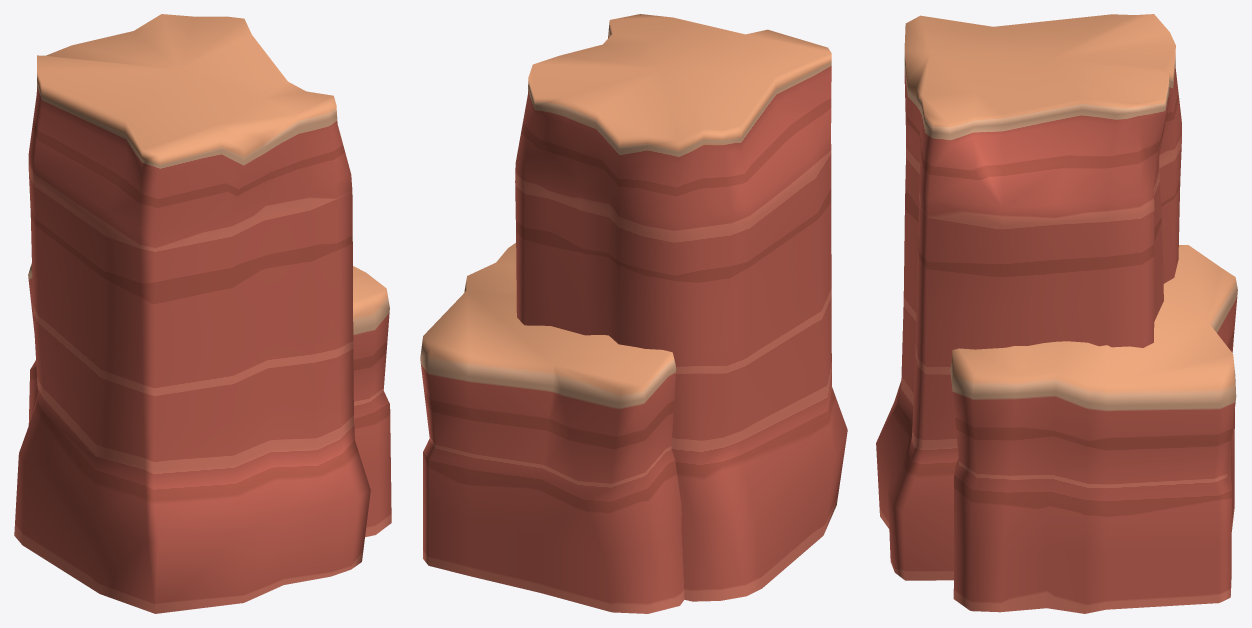
File: BO_Rock_4x6x4.fbx
3 views of the same model, side by side, from view 1: azimuth 30°, elevation 25°; view 2: azimuth 150°, elevation 25°; view 3: azimuth 270°, elevation 25° (orthographic).
Visible parts, largest first — view 1: Rock_4x6x4; view 2: Rock_4x6x4; view 3: Rock_4x6x4.
Boxes of the visible parts, x1,y1,x2,y2 form: Rock_4x6x4: (14,14,391,613); Rock_4x6x4: (420,14,847,613); Rock_4x6x4: (876,14,1237,613).
Bounding box in the file's own units: 416 × 604 × 420.
Materials: 1 (1 with a texture image).
